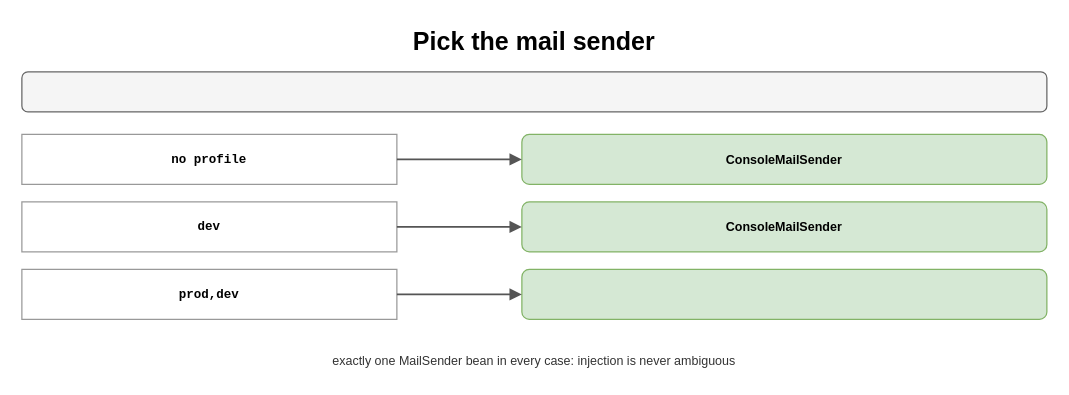
Image size: 1069x395. Some labels were removed from this diagram. Each missing label, with the centre of its shape:
"!prod matches whenever prod is not active" belongs at [534,91].
"SmtpMailSender only" belongs at [784,293].
